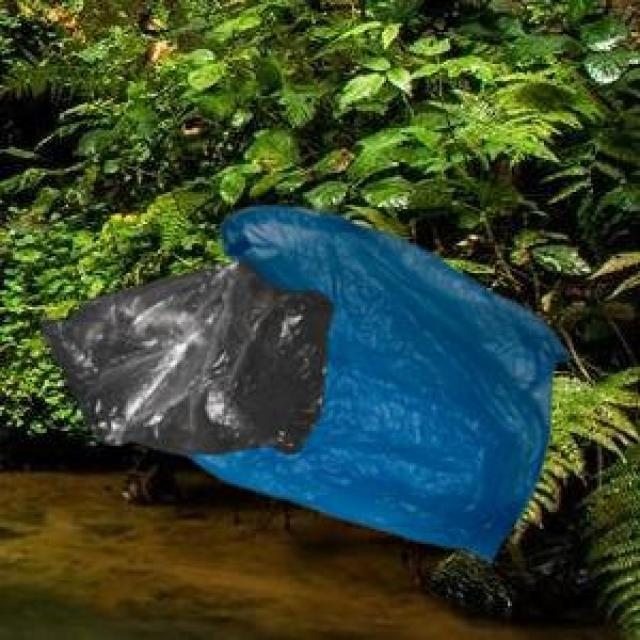plastic: (43, 178, 596, 576)
